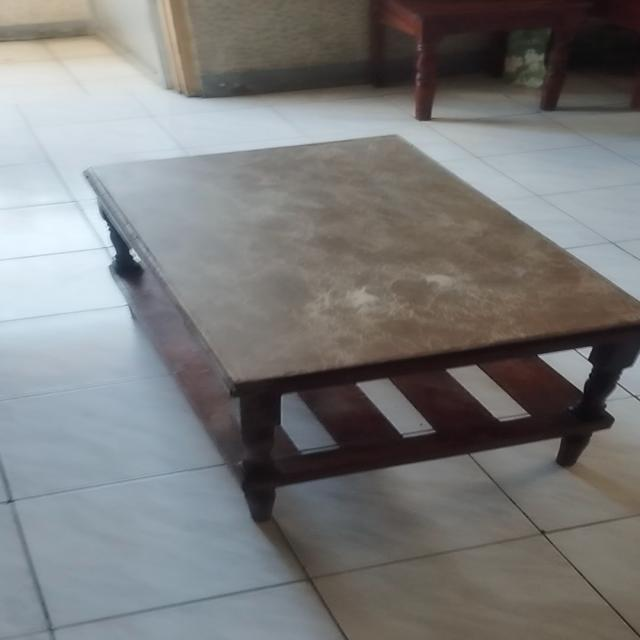table: (75, 131, 640, 520)
